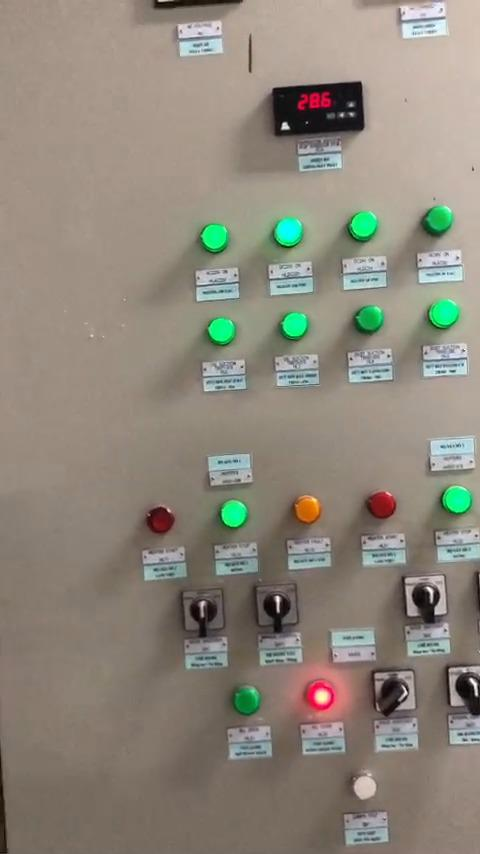led: (142, 501, 175, 538), (347, 210, 381, 244), (225, 683, 260, 716), (307, 679, 339, 714), (362, 486, 395, 519), (348, 769, 379, 803), (440, 484, 473, 514), (200, 223, 231, 254), (423, 204, 454, 234), (218, 497, 248, 528), (280, 314, 310, 343), (292, 494, 321, 524), (275, 219, 304, 248), (354, 308, 384, 336), (429, 298, 458, 326), (207, 318, 235, 346)
twist: (184, 586, 226, 633), (259, 584, 300, 630), (403, 576, 445, 619), (373, 668, 415, 711), (440, 667, 480, 710)
